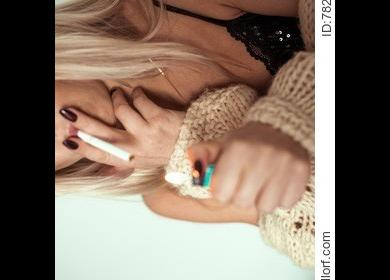Cigarette: (78, 130, 134, 161)
